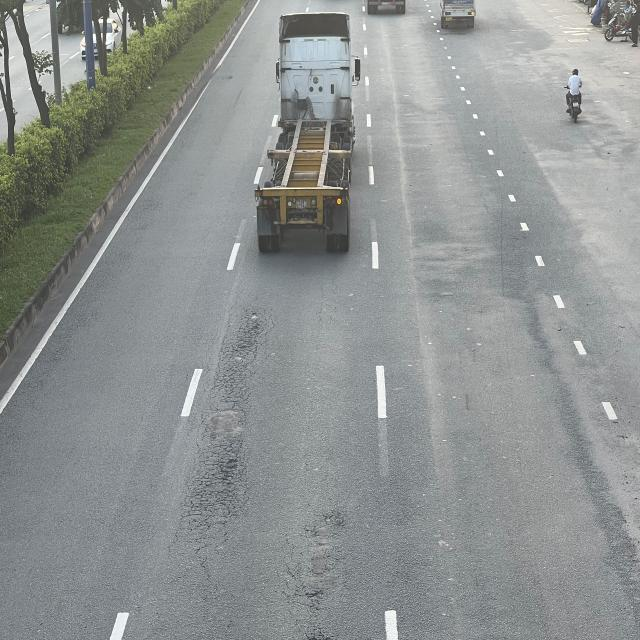container: (251, 15, 359, 256)
truck: (438, 0, 478, 27)
